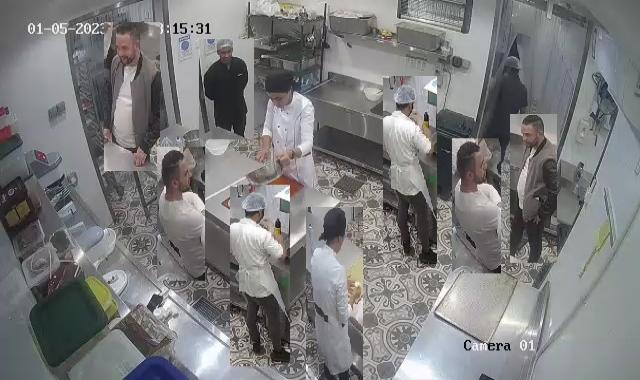hairnet: (240, 190, 266, 222), (391, 83, 416, 115), (215, 39, 237, 60), (504, 56, 523, 74)
no_hairnet: (159, 149, 189, 193), (456, 142, 482, 184), (264, 70, 292, 106), (323, 208, 348, 248), (114, 22, 142, 56), (521, 116, 542, 146)
